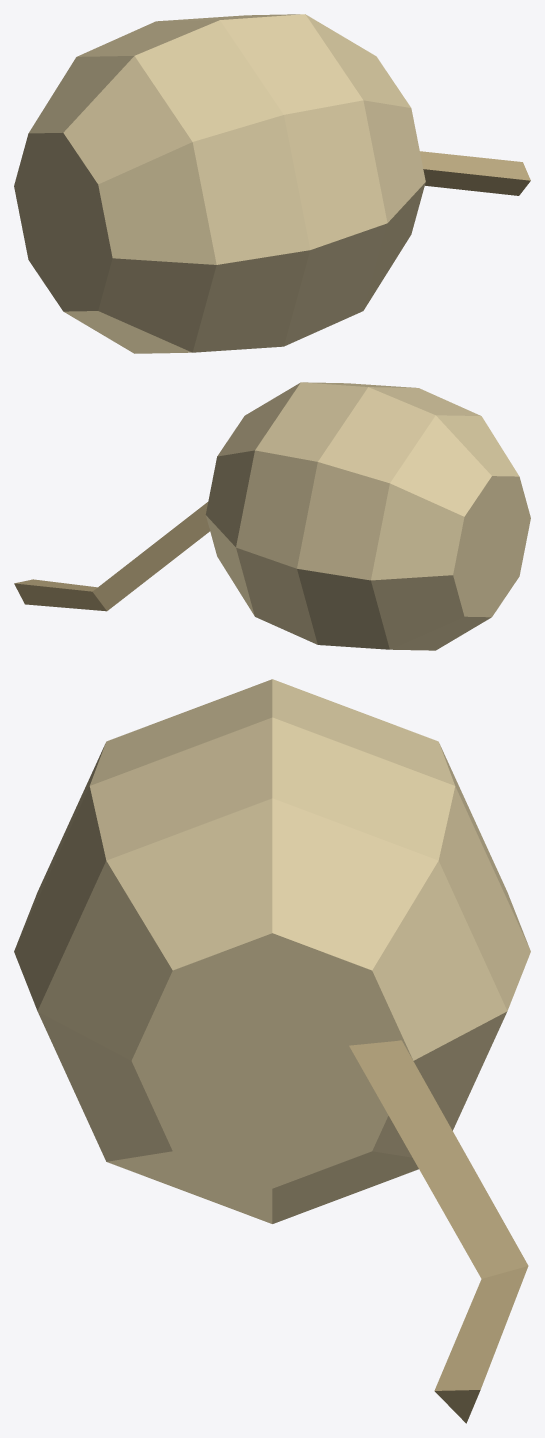
Rendered from twine.glb.
3 renders of one model, top to bottom at view 1: azimuth 30°, elevation 25°; view 2: azimuth 150°, elevation 25°; view 3: azimuth 270°, elevation 25°, orthographic. The views are drawn at different scales.
Parts seen in each view (by area): view 1: twine; view 2: twine; view 3: twine.
Part boxes in pixels (<box>): twine: <box>14,14,530,353</box>; twine: <box>14,382,530,650</box>; twine: <box>14,679,530,1423</box>.
Bounding box in the file's own units: 0.187 × 0.11 × 0.11.
